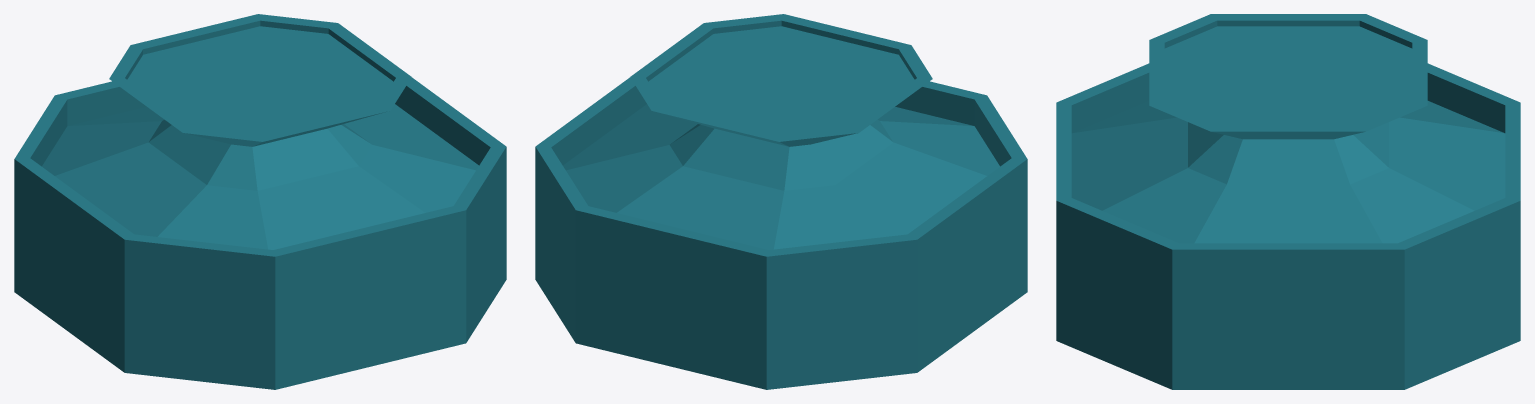
The model's file is fountain.FBX.
The picture shows the model from 3 angles, left to right: view 1: azimuth 30°, elevation 25°; view 2: azimuth 150°, elevation 25°; view 3: azimuth 270°, elevation 25°; orthographic projection. The views are drawn at different scales.
Visible parts, largest first — view 1: fountain; view 2: fountain; view 3: fountain.
Part boxes in pixels (x1,y1,x2,y2): fountain: (14, 14, 506, 389); fountain: (535, 14, 1027, 389); fountain: (1056, 14, 1520, 389).
Size of the model in its own units: 3 by 1.56 by 3.
